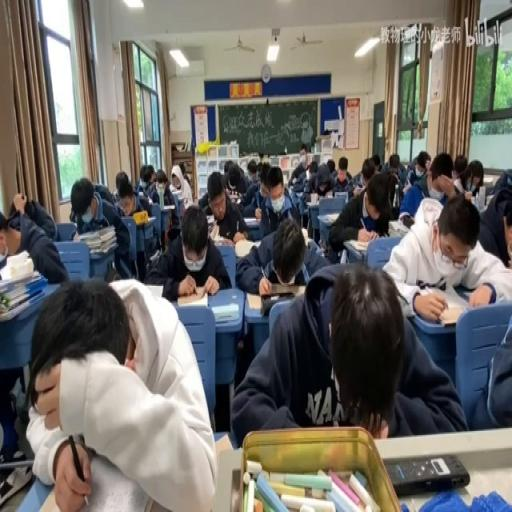calculator: (246, 286, 299, 310), (210, 300, 238, 322), (177, 287, 208, 306), (343, 236, 368, 255), (138, 282, 163, 298), (234, 238, 256, 256), (388, 218, 410, 234), (212, 233, 234, 246), (134, 213, 155, 226), (297, 262, 309, 283), (322, 212, 341, 225), (169, 188, 184, 200), (149, 246, 159, 263), (333, 189, 349, 199), (290, 183, 303, 195), (242, 216, 258, 225), (305, 196, 321, 205), (206, 213, 216, 226), (164, 212, 170, 229), (482, 175, 494, 183), (160, 204, 174, 210), (290, 176, 298, 186), (325, 190, 333, 198)
paper: (23, 274, 213, 510), (231, 260, 461, 445), (384, 192, 510, 317), (146, 203, 230, 299), (237, 212, 326, 293), (72, 174, 134, 278), (327, 170, 395, 258), (1, 195, 67, 284), (466, 298, 510, 430), (396, 148, 446, 222), (234, 161, 264, 216), (378, 152, 403, 194), (330, 156, 352, 195), (352, 155, 376, 189), (486, 168, 512, 199), (136, 164, 158, 200), (300, 161, 320, 196), (91, 179, 115, 205), (178, 160, 192, 188), (466, 168, 482, 192), (453, 154, 467, 179), (416, 151, 430, 175), (115, 170, 126, 194), (393, 180, 400, 208), (371, 154, 381, 172), (154, 174, 166, 189), (406, 166, 414, 184), (326, 158, 335, 171), (256, 161, 262, 176), (224, 160, 230, 174), (111, 188, 118, 200), (300, 145, 307, 154), (150, 175, 157, 183)
person: (386, 452, 470, 494), (242, 229, 248, 237)
